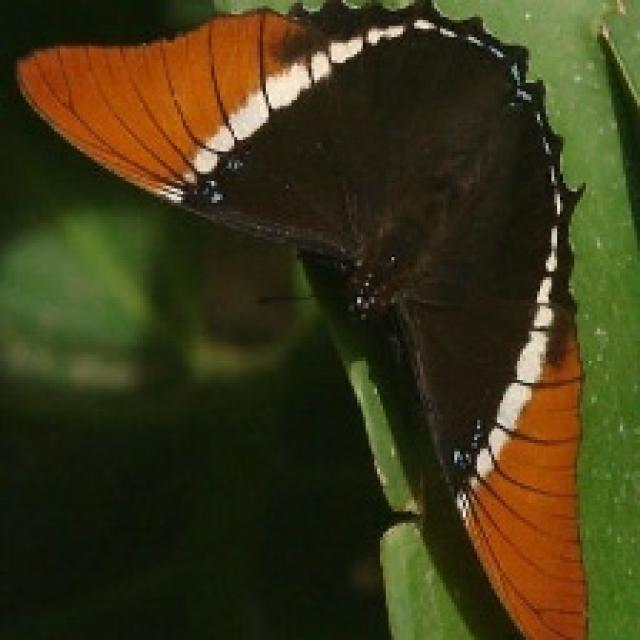butterfly: (11, 0, 592, 637)
